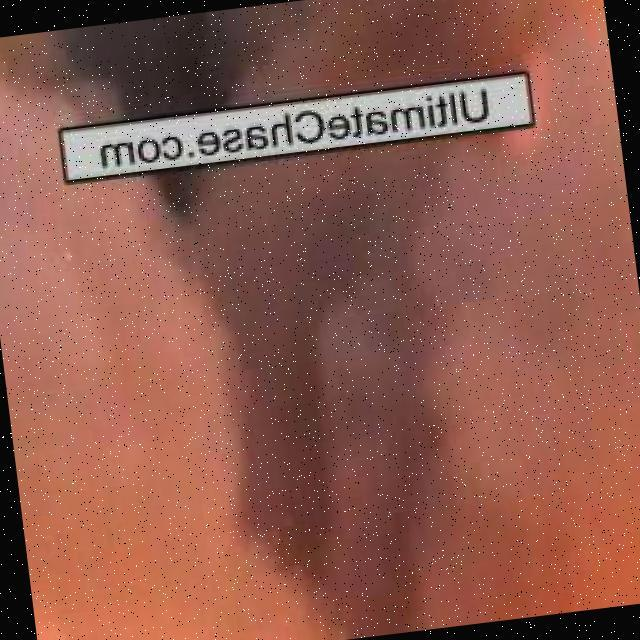Fire: (545, 447, 640, 612), (541, 0, 605, 23)
